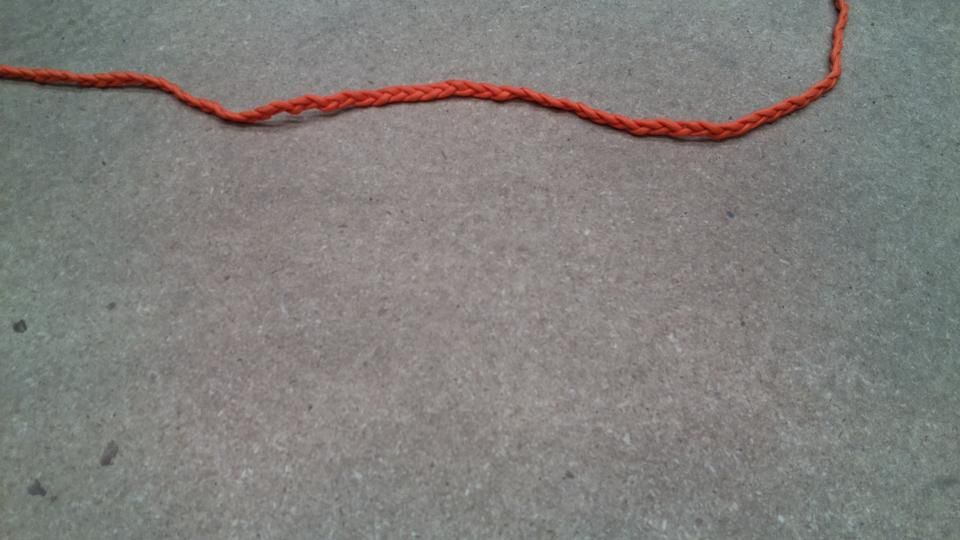rope: (1, 1, 848, 146)
